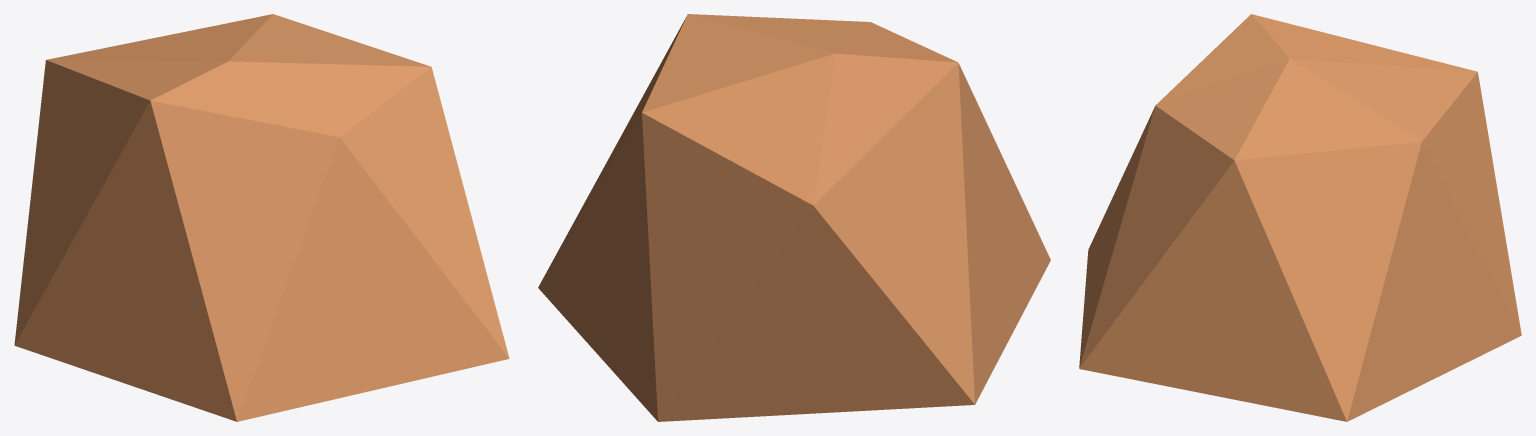
The model's file is Stone1.fbx.
The picture shows the model from 3 angles, left to right: view 1: azimuth 30°, elevation 25°; view 2: azimuth 150°, elevation 25°; view 3: azimuth 270°, elevation 25°; orthographic projection. The views are drawn at different scales.
Parts seen in each view (by area): view 1: Rock 1; view 2: Rock 1; view 3: Rock 1.
Boxes of the visible parts, x1,y1,x2,y2 form: Rock 1: (14,14,509,421); Rock 1: (538,14,1050,421); Rock 1: (1079,14,1521,421).
Size of the model in its own units: 91.29 by 59.05 by 87.61.
